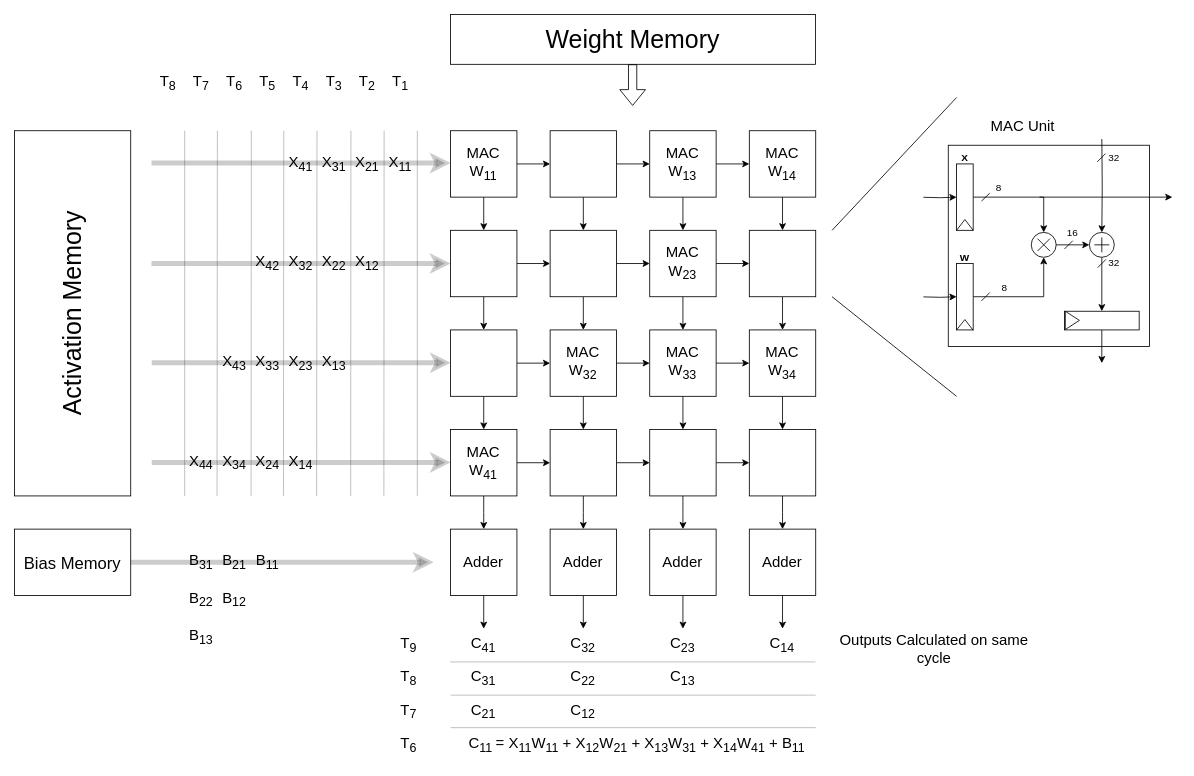
Image size: 1194x776. Some labels were removed from this diagram. Each missing label, with the box of its shape:
MAC W 12: (549, 130, 617, 197)
MAC W 21: (450, 229, 517, 297)
MAC W 22: (549, 229, 617, 297)
MAC W 24: (748, 229, 816, 297)
MAC W 31: (450, 329, 517, 396)
MAC W 42: (549, 429, 617, 496)
MAC W 43: (649, 429, 716, 496)
MAC W 44: (748, 429, 816, 496)
